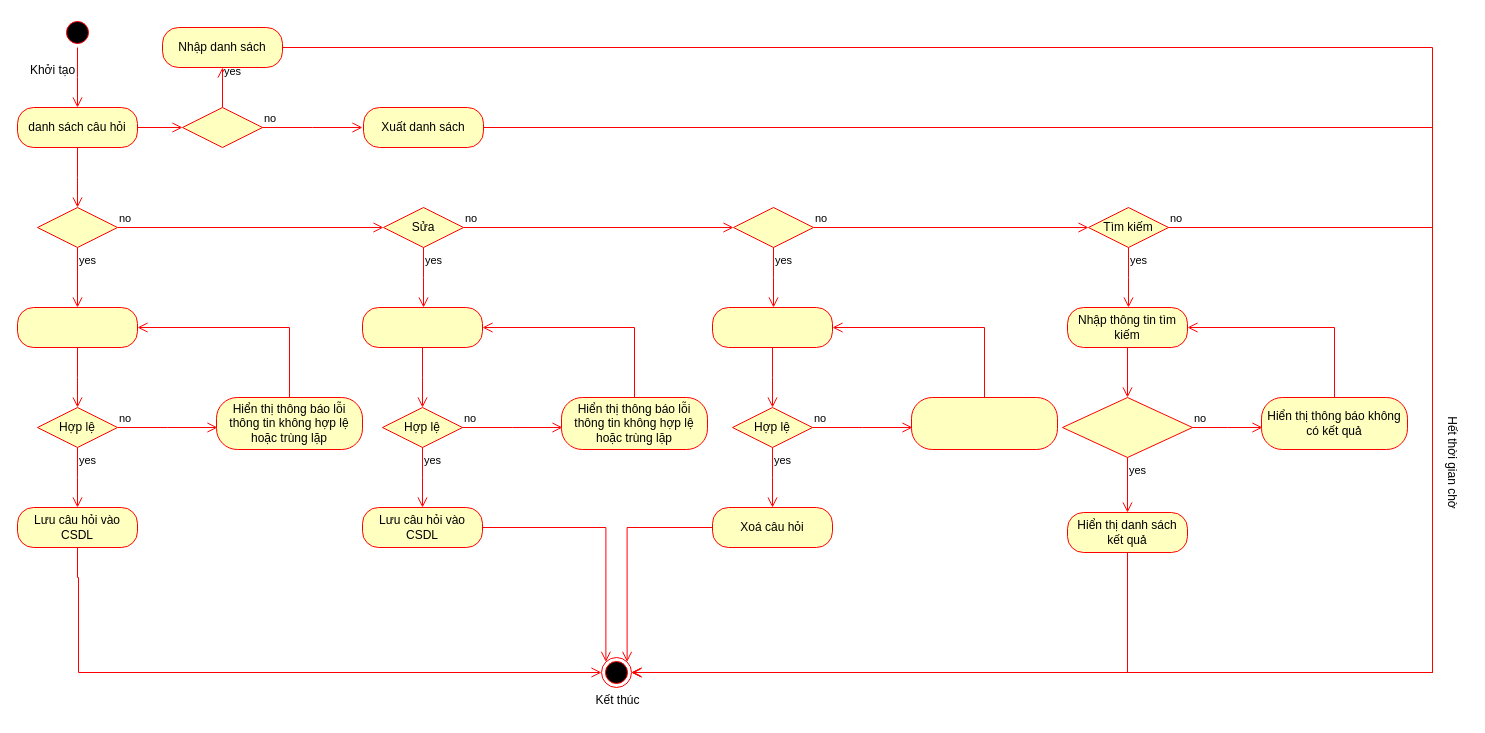
This 1485x733 diagram has some shape labels left out. The shapes that lost their labels are listed below. From the top down, each one's centre as x and y in pixels, then its label:
At point 222,127: "nhập xuất".
At point 77,227: "Thêm".
At point 773,227: "Xoá".
At point 77,327: "Nhập thông tin câu hỏi".
At point 422,327: "Sửa đổi thông tin câu hỏi".
At point 772,327: "Chọn câu hỏi muốn xoá".
At point 984,423: "Hiển thị thông báo lỗi thông tin không hợp lệ".
At point 1127,427: "kiểm tra kết quả tồn tại".
